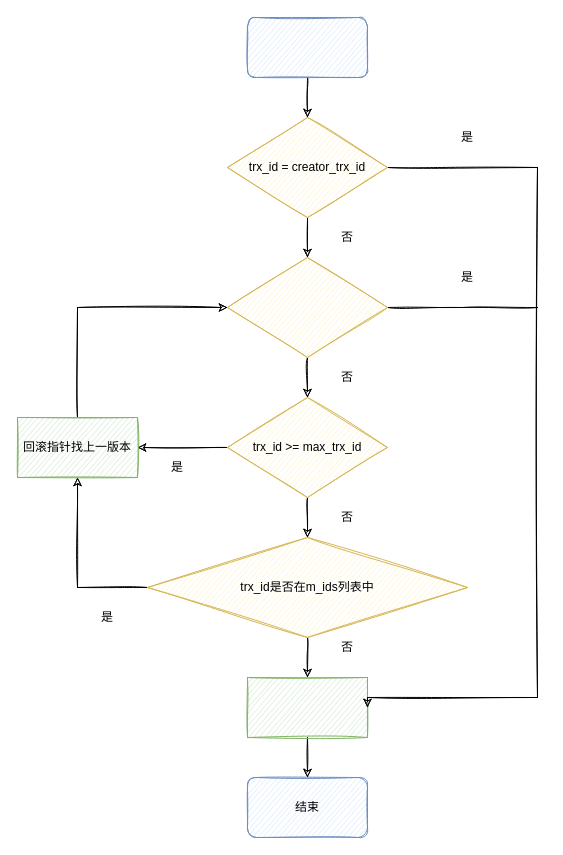
This 563x855 diagram has some shape labels left out. The shapes that lost their labels are listed below. From the top down, each one's centre as x and y in pixels, then its label:
(x=307, y=47): 开始
(x=307, y=307): trx_id < min_trx_id
(x=307, y=707): 可见
